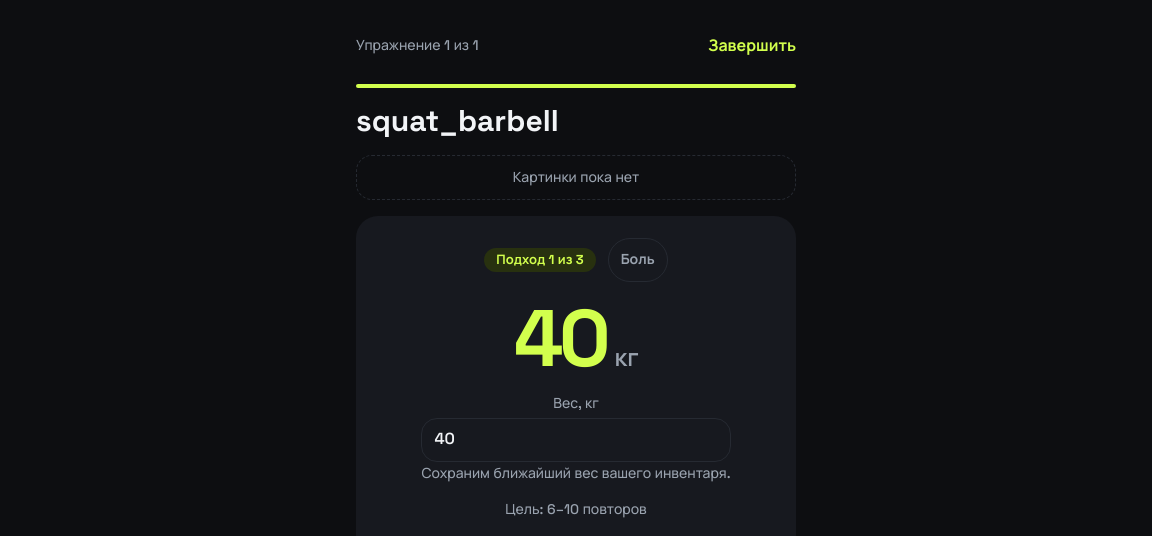
Test: завершение тренировки › ошибка сервера показывает message, а не details
The image size is (1152, 536).
What coordinates should you click on to do the following:
click the button with aria-label "Завершить тренировку"
I would click on:
 (752, 46)
Its box is [708,24,796,68].
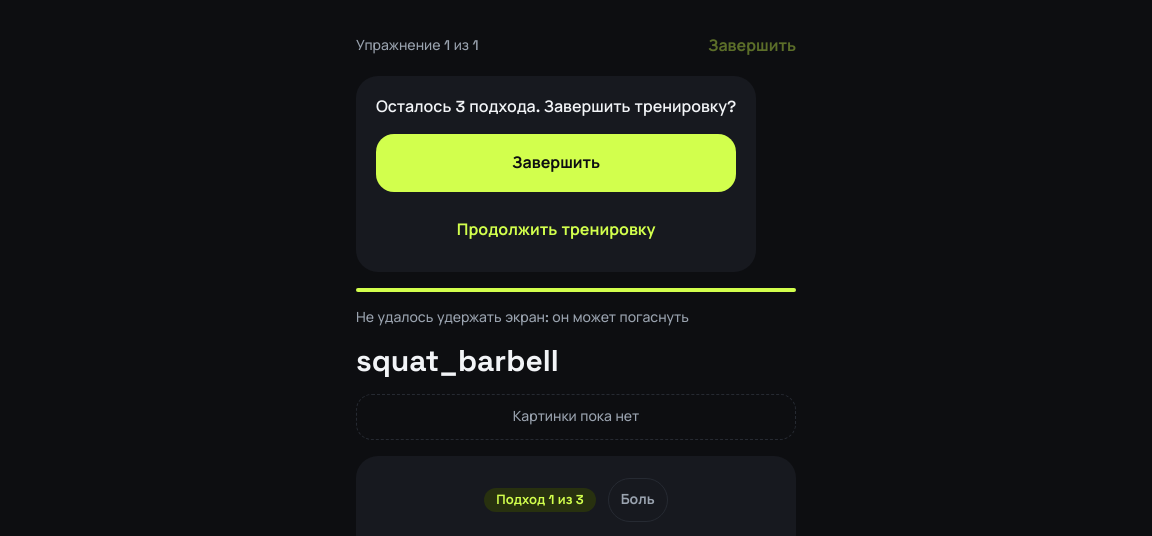
What coordinates should you click on to do the following:
click the button "Завершить" below "Осталось"
I would click on:
 (556, 163)
Its box is [376,134,736,192].
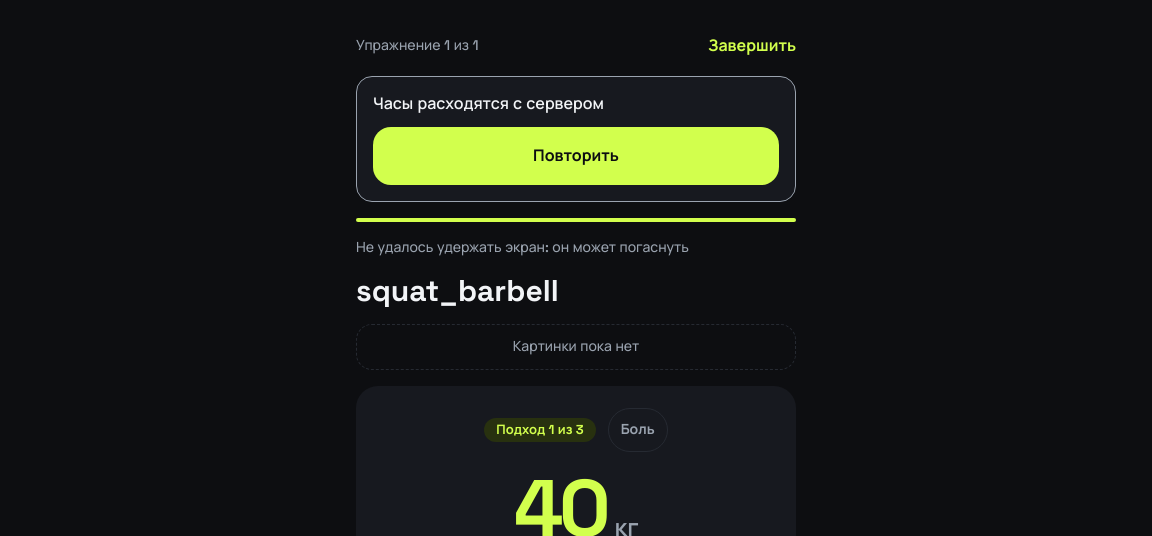
Check: the message with test id "finish-failure" shows "Часы расходятся с сервером", box [373,93,604,114]
